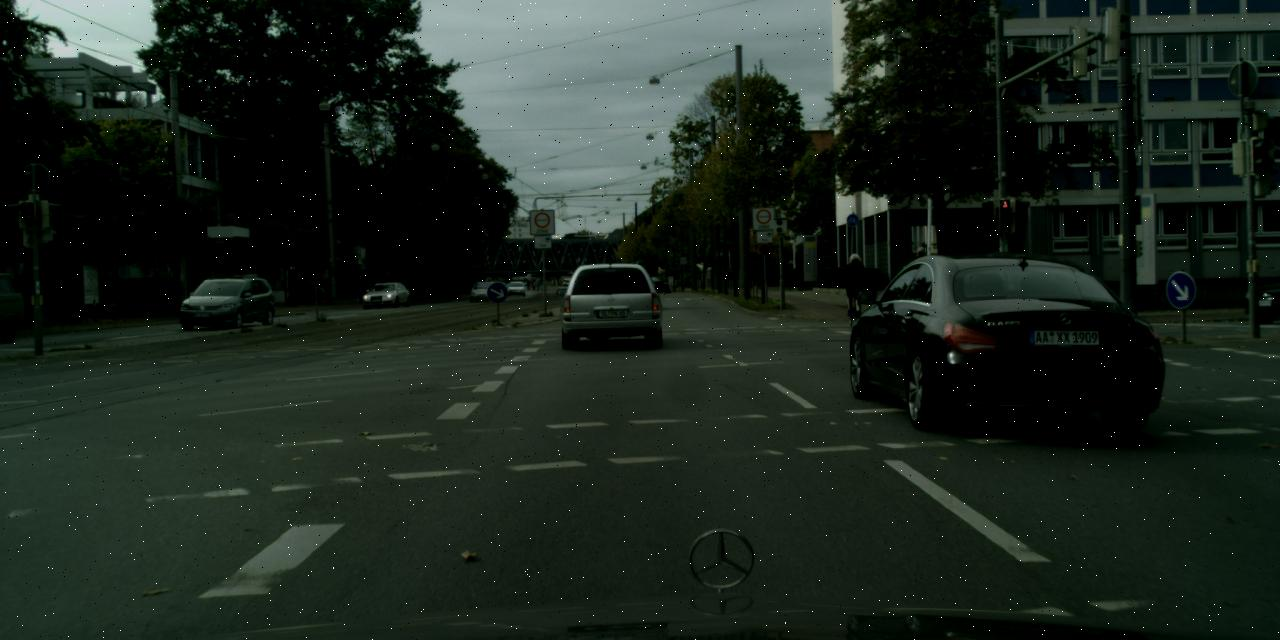ped: (908, 247, 934, 311), (844, 253, 866, 308)
